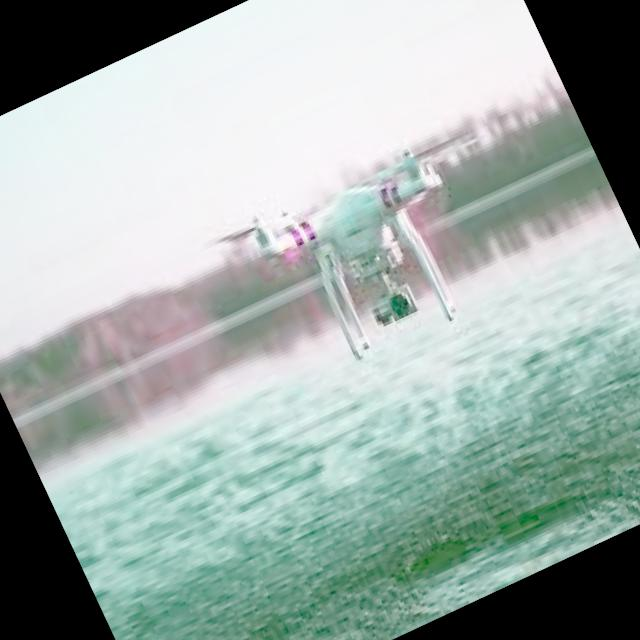drone: (175, 86, 554, 427)
